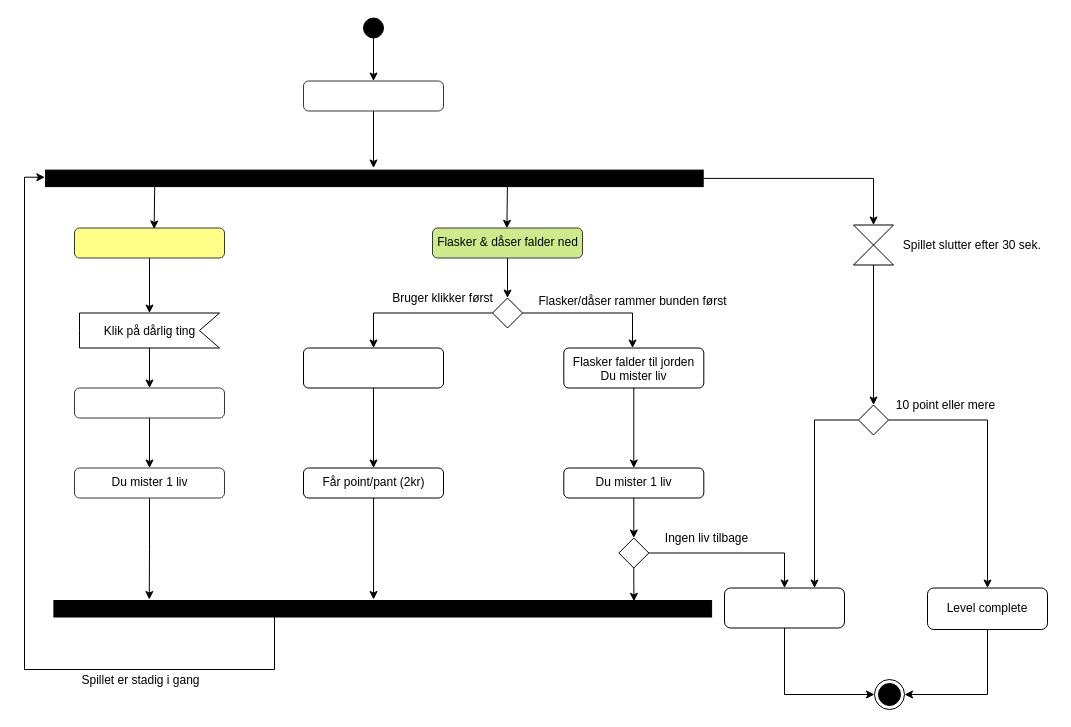
Some shapes in this 1071 by 727 pixel diagram are drawn without their labels. Each missing label, with the centre of its shape:
Baggrundsmusik starter: the point at 373,95
Bananen splatter ud: the point at 149,402
Bananer falder ned: the point at 149,242
Flasker/dåser forsvinder Vinder lyd afspilles: the point at 373,367
Game Over: the point at 784,607
